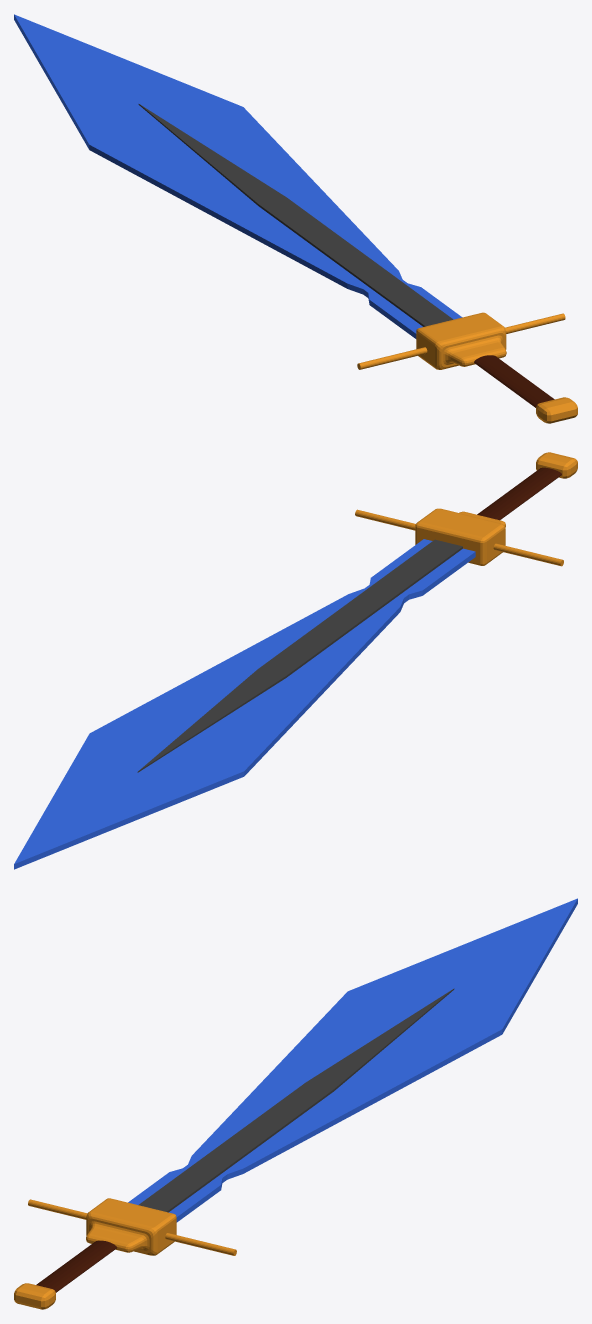
3 renders of one model, top to bottom at view 1: azimuth 30°, elevation 25°; view 2: azimuth 150°, elevation 25°; view 3: azimuth 330°, elevation 25°, orthographic.
Visible parts, largest first — view 1: 64; view 2: 64; view 3: 64.
Part boxes in pixels (x1,y1,x2,y2): 64: [14, 14, 577, 423]; 64: [14, 452, 577, 869]; 64: [14, 898, 577, 1309].
Size of the model in its own units: 15 by 1.97 by 69.6.
